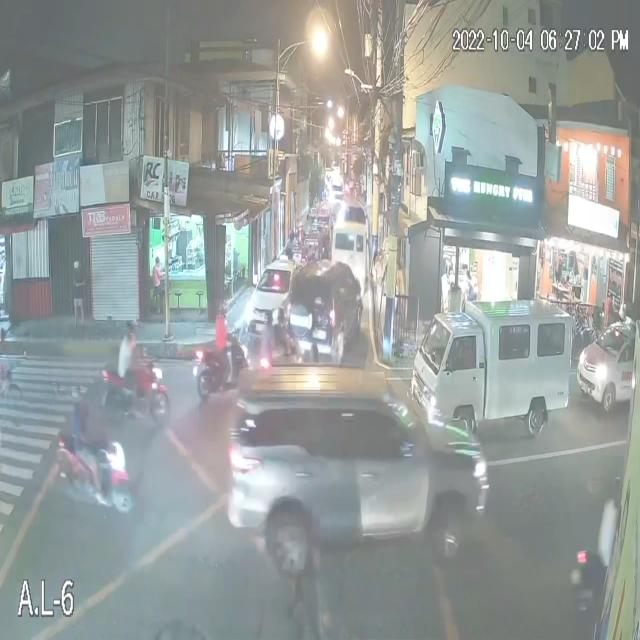Full-Faced: (124, 315, 138, 339), (264, 304, 275, 328), (277, 308, 290, 328), (218, 302, 230, 318)
